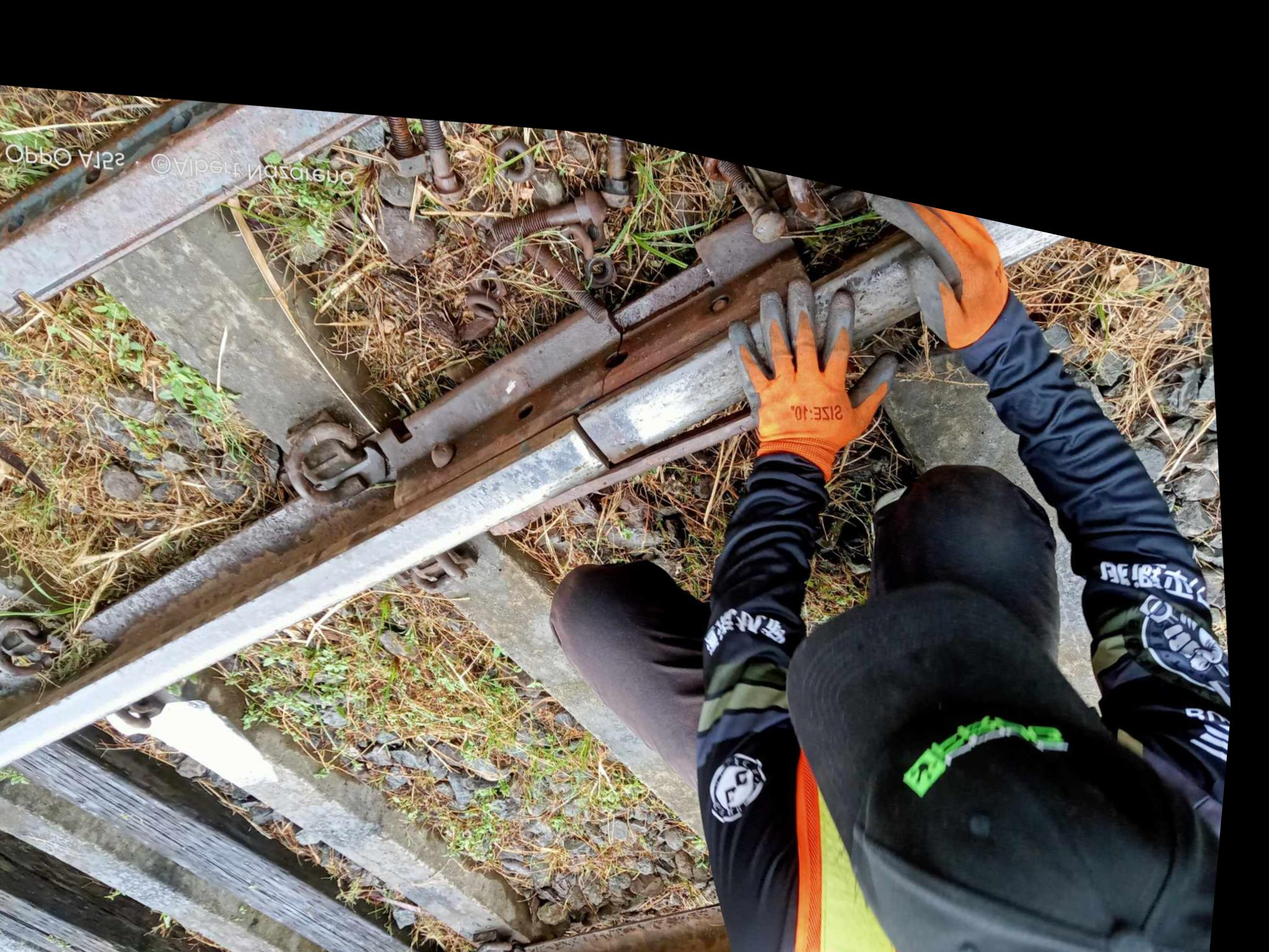person: (532, 337, 662, 484)
